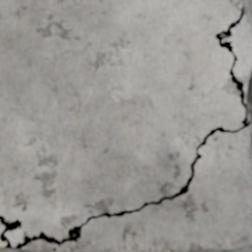brick: (0, 0, 251, 245), (24, 126, 251, 251), (0, 242, 5, 248)
crack: (0, 2, 251, 249)
